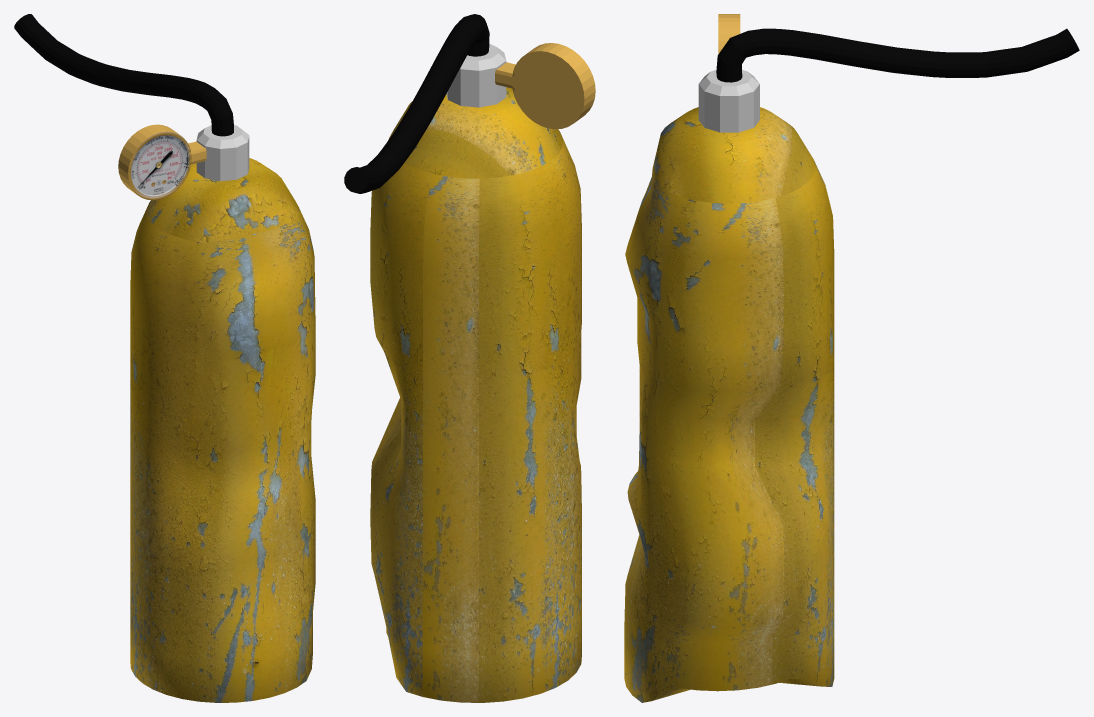
File: brokentank.fbx
The picture shows the model from 3 angles, left to right: view 1: azimuth 30°, elevation 25°; view 2: azimuth 150°, elevation 25°; view 3: azimuth 270°, elevation 25°; orthographic projection. The views are drawn at different scales.
Visible parts, largest first — view 1: Cylinder.039, Cylinder.042, Cylinder.041, Cylinder.040; view 2: Cylinder.039, Cylinder.042, Cylinder.041, Cylinder.040; view 3: Cylinder.039, Cylinder.042, Cylinder.040.
Part boxes in pixels (bbox=[...]): Cylinder.039: bbox=[130, 158, 315, 702]; Cylinder.042: bbox=[14, 14, 233, 136]; Cylinder.041: bbox=[118, 124, 206, 200]; Cylinder.040: bbox=[196, 125, 249, 181]; Cylinder.039: bbox=[370, 87, 581, 702]; Cylinder.042: bbox=[344, 14, 489, 193]; Cylinder.041: bbox=[495, 43, 595, 129]; Cylinder.040: bbox=[446, 43, 506, 107]; Cylinder.039: bbox=[624, 107, 834, 702]; Cylinder.042: bbox=[716, 28, 1079, 82]; Cylinder.040: bbox=[698, 70, 759, 132].
Size of the model in its own units: 99.29 by 300 by 192.
Materials: 5 (2 with a texture image).
